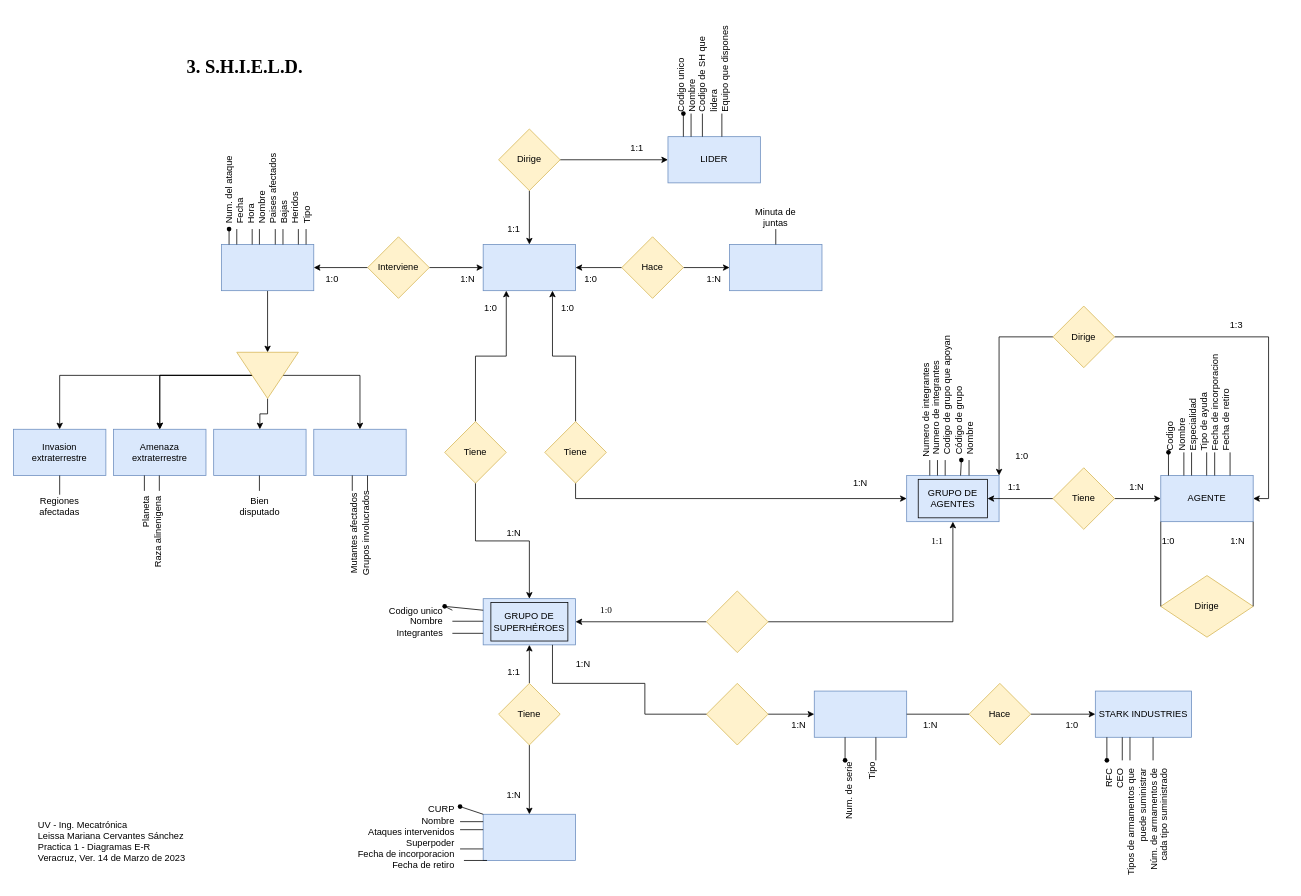
This 1301x896 diagram has some shape labels left out. Here are the shapes that lost their labels. From the top down, the centre of each, then its label:
the point at 267,267: ATAQUE
the point at 529,267: SHIELD
the point at 775,267: JUNTAS
the point at 259,452: Economicos
the point at 359,452: Mutantes
the point at 737,621: Disponen de
the point at 737,714: Le suministra
the point at 860,713: ARMAMENTO
the point at 529,837: SUPER HÉROES
